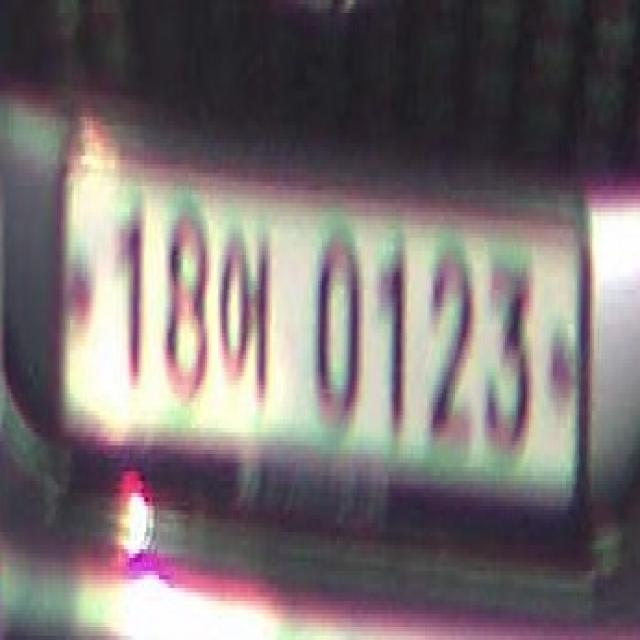0: (309, 212, 366, 437)
1: (109, 186, 152, 398), (373, 229, 412, 450)
2: (426, 233, 476, 462)
3: (481, 242, 534, 467)
8: (159, 199, 209, 411)
eo: (216, 216, 272, 415)
license_plate: (46, 134, 594, 536)
